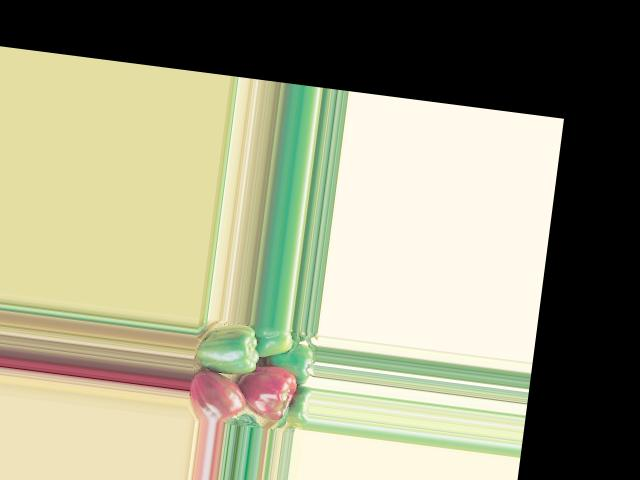bell_pepper: (186, 371, 248, 424)
